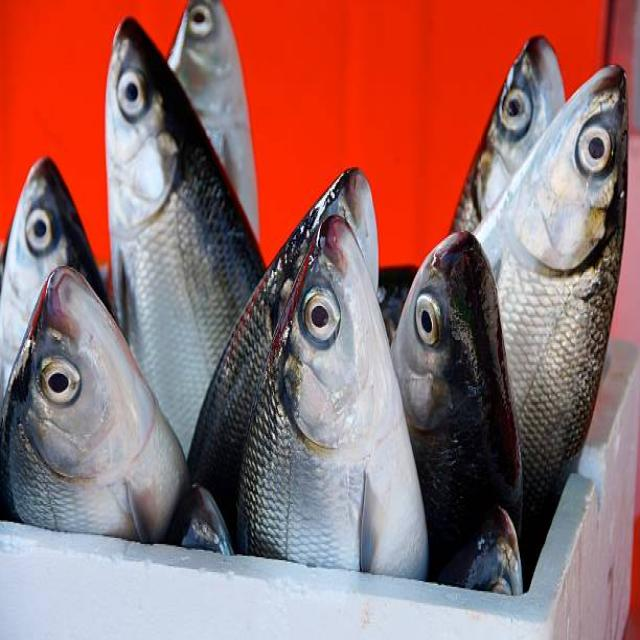Bangus: (236, 182, 433, 593)
